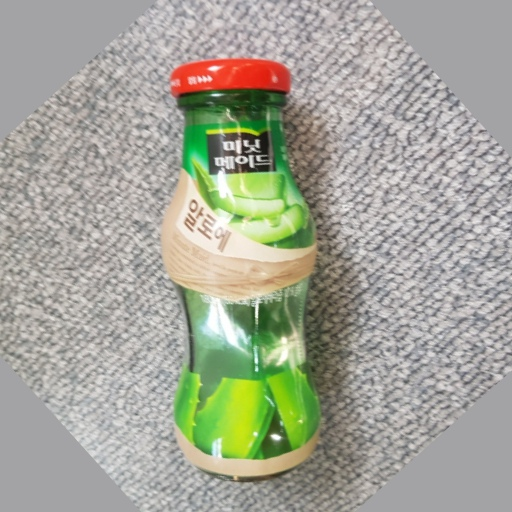Glass_4: (158, 56, 326, 483)
